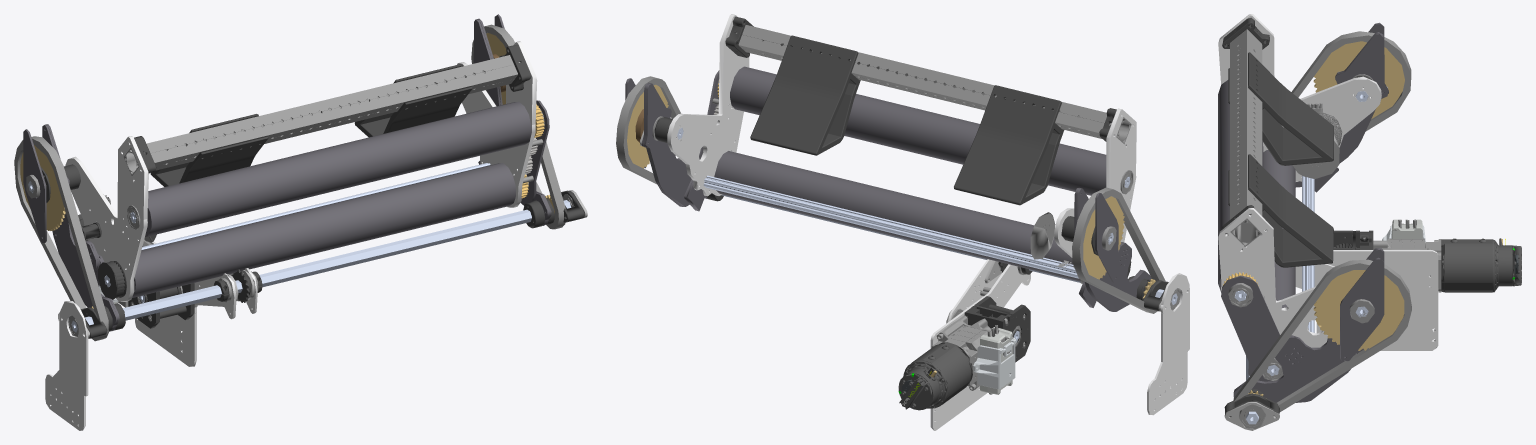
File: frc-crescendo.glb
3 renders of one model, left to right at view 1: azimuth 30°, elevation 25°; view 2: azimuth 150°, elevation 25°; view 3: azimuth 270°, elevation 25°, orthographic. The views are drawn at different scales.
Visible parts, largest first — view 1: am-churro 500 churro tube v1 (4) (3) (2) (1) (1) (1) (1) (1), 16T Sprocket (1):1; view 2: am-churro 500 churro tube v1 (4) (3) (2) (1) (1) (1) (1) (1), 16T Sprocket (1):1; view 3: am-churro 500 churro tube v1 (4) (3) (2) (1) (1) (1) (1) (1), 16T Sprocket (1):1.
Part boxes in pixels (<box>): am-churro 500 churro tube v1 (4) (3) (2) (1) (1) (1) (1) (1): <box>14,14,587,430</box>; 16T Sprocket (1):1: <box>20,33,554,308</box>; am-churro 500 churro tube v1 (4) (3) (2) (1) (1) (1) (1) (1): <box>616,14,1189,430</box>; 16T Sprocket (1):1: <box>627,84,1155,377</box>; am-churro 500 churro tube v1 (4) (3) (2) (1) (1) (1) (1) (1): <box>1218,14,1521,430</box>; 16T Sprocket (1):1: <box>1248,41,1502,396</box>.
Bounding box in the file's own units: 0.6699 × 0.355 × 0.3402.
Materials: 2 (2 with a texture image).
